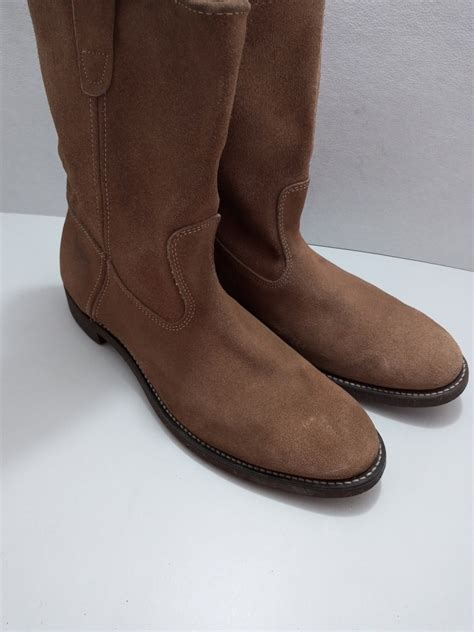gamuza: (26, 1, 464, 481)
